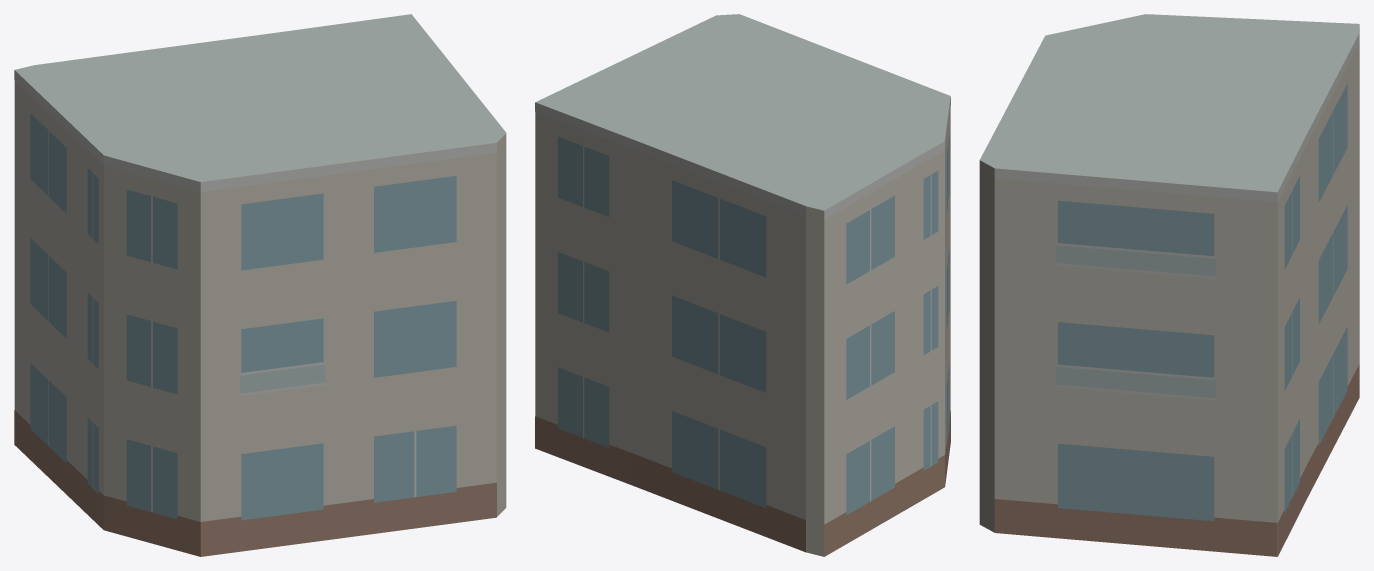
Rendered from survey-upis-32544058.glb.
3 renders of one model, left to right at view 1: azimuth 30°, elevation 25°; view 2: azimuth 150°, elevation 25°; view 3: azimuth 270°, elevation 25°, orthographic. The views are drawn at different scales.
Parts seen in each view (by area): view 1: survey-upis-32544058.tmp; view 2: survey-upis-32544058.tmp; view 3: survey-upis-32544058.tmp.
Part boxes in pixels (bbox=[...]): survey-upis-32544058.tmp: bbox=[14, 14, 506, 556]; survey-upis-32544058.tmp: bbox=[535, 14, 950, 556]; survey-upis-32544058.tmp: bbox=[979, 14, 1359, 556].
Bounding box in the file's own units: 9.61 × 9.15 × 8.65.
